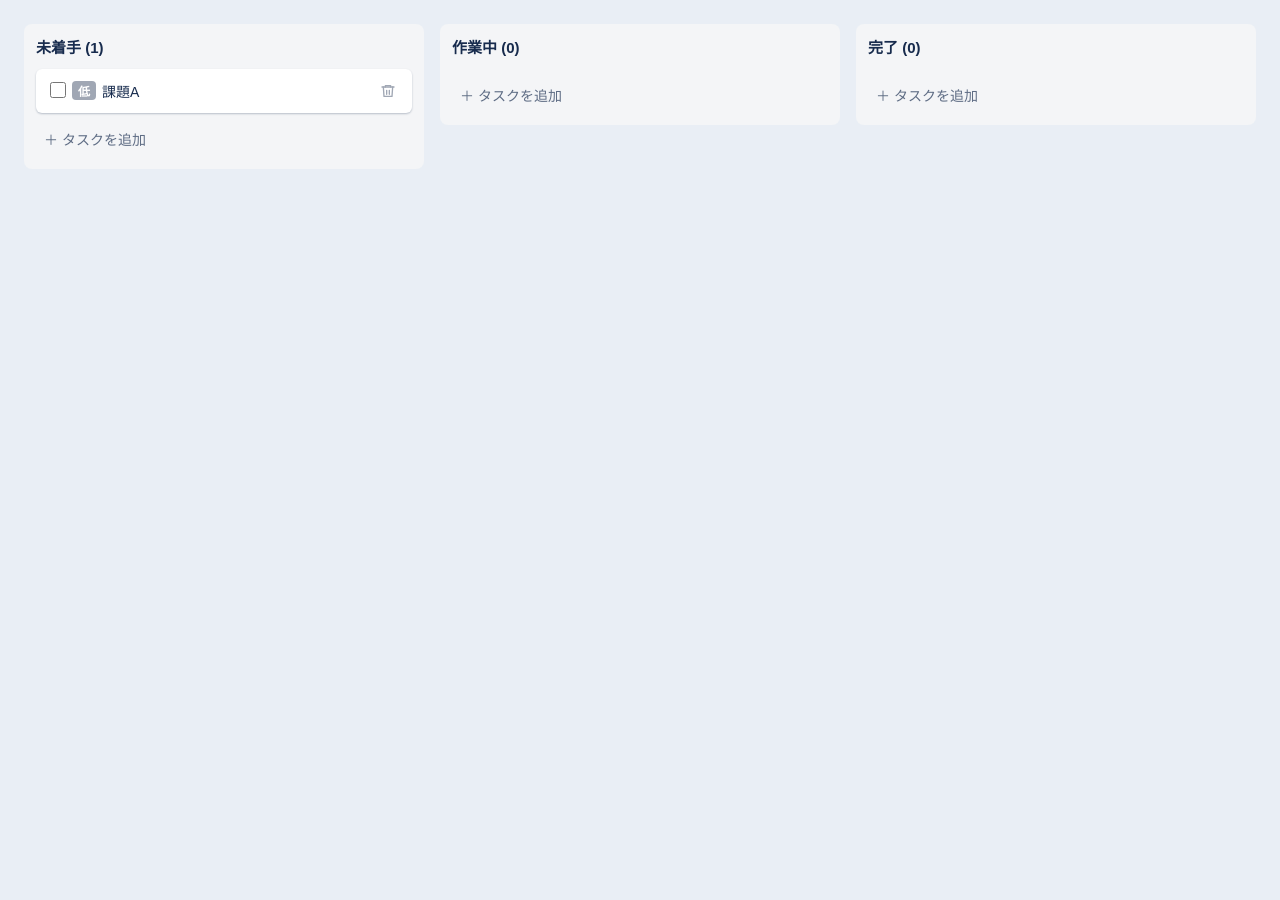
Test: 期限・時間厳守を変えると、保存する前から優先度の表示が変わる
Click the button with aria-label "課題A を編集" at coordinates (121, 92), box [36,69,412,113]
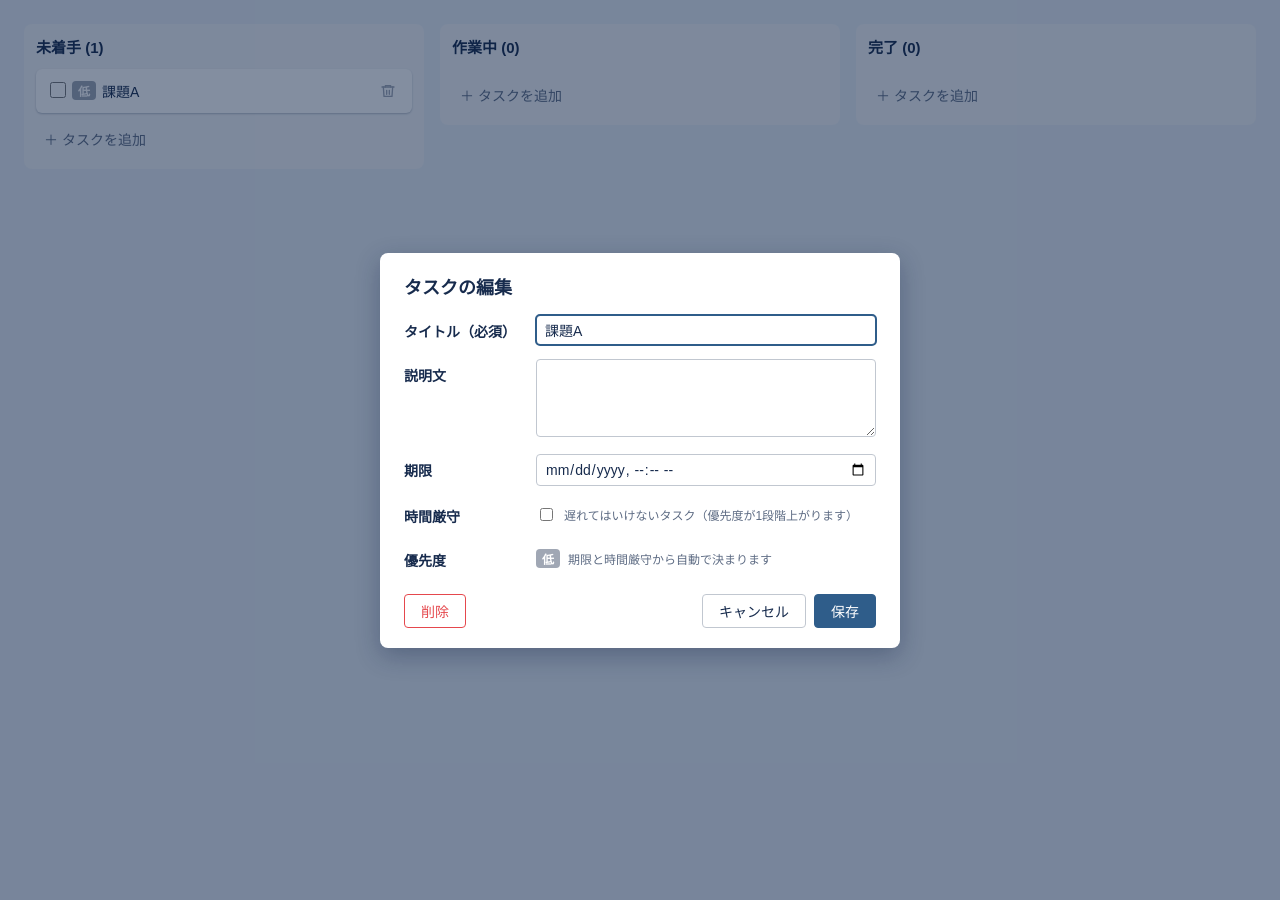
Expected: the text with test id "form-priority" reads "低", [542,553,554,567]
Click the checkbox labelled "時間厳守" at coordinates (546, 514), box [540,508,553,521]
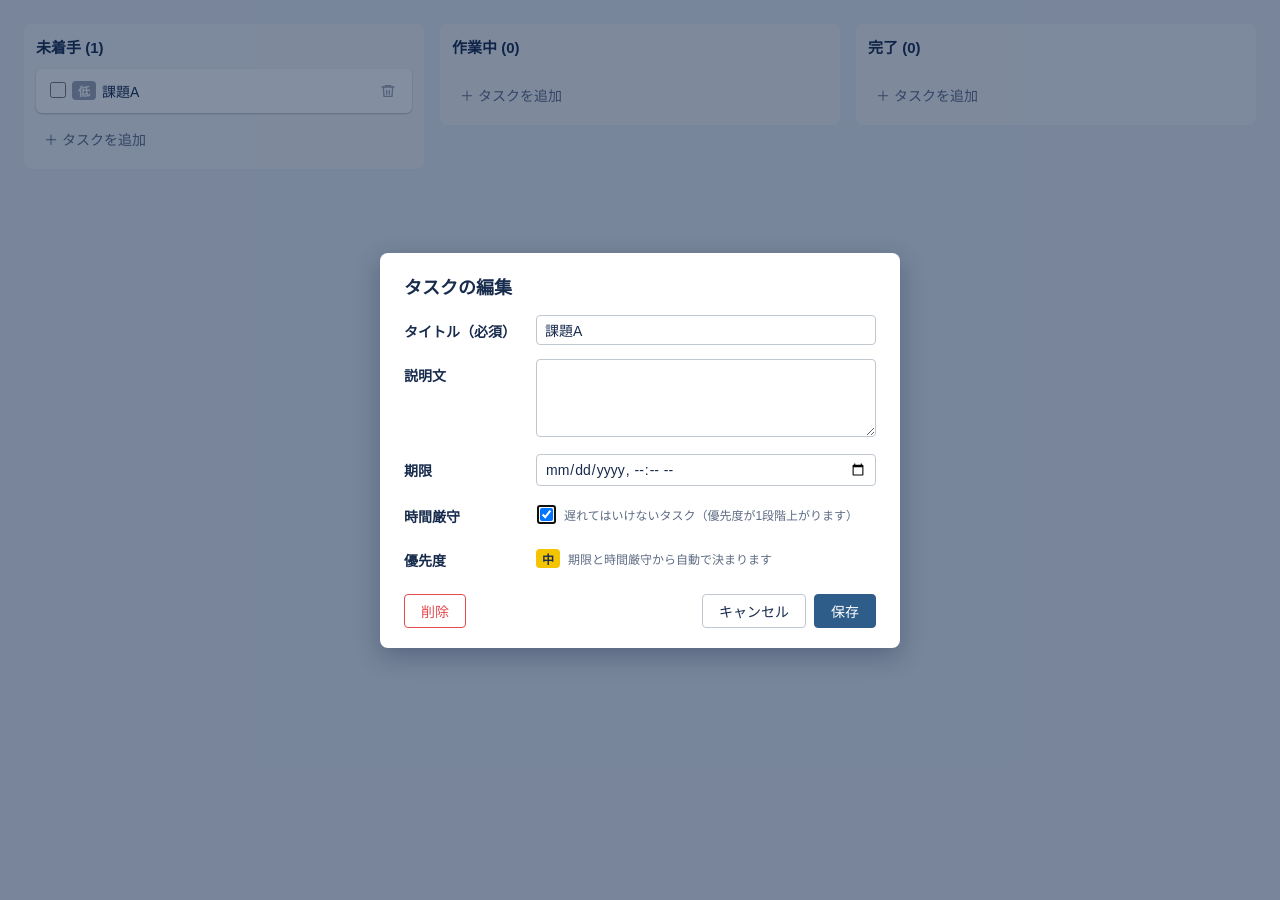
Expected: the text with test id "form-priority" reads "中", [542,553,554,567]
